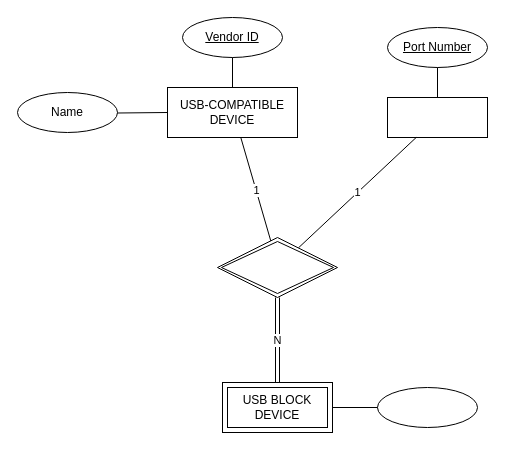
This 505x450 diagram has some shape labels left out. The shapes that lost their labels are listed below. From the top down, each one's centre as x and y in pixels, then its label:
the point at 437,117: USB PORT
the point at 277,267: Openned
the point at 427,407: Block Number
